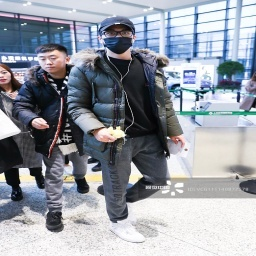correctlyWear: (98, 27, 135, 54)
noWear: (36, 54, 65, 72), (1, 66, 11, 86)
